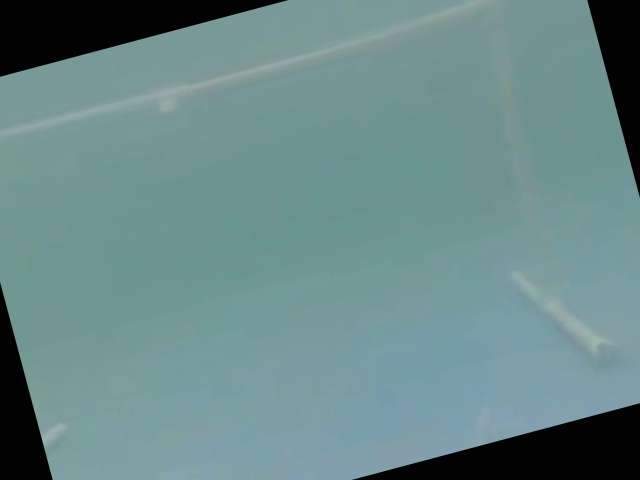gate: (3, 10, 627, 461)
